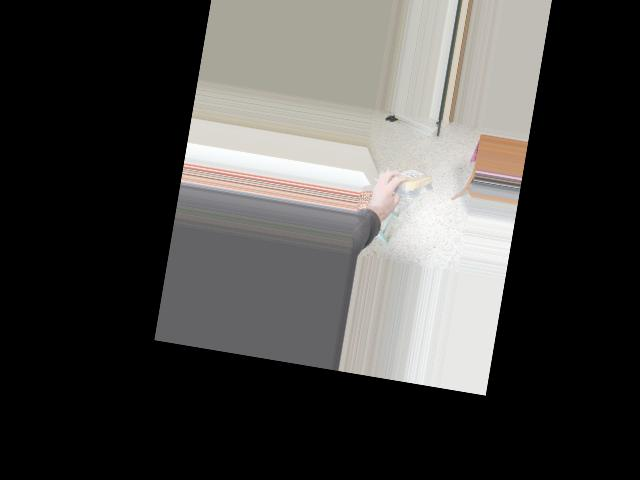cheese: (379, 161, 437, 202)
